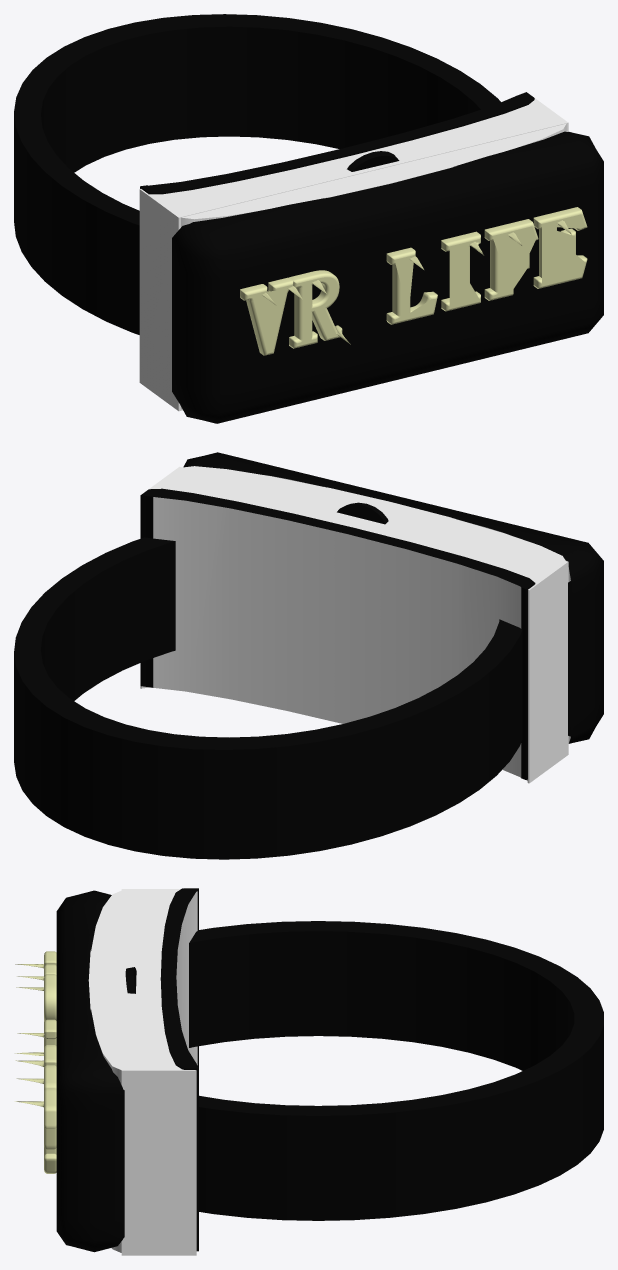
File: VR_LIVE.fbx
3 views of the same model, one above another, from view 1: azimuth 30°, elevation 25°; view 2: azimuth 150°, elevation 25°; view 3: azimuth 270°, elevation 25° (orthographic). The views are drawn at different scales.
Visible parts, largest first — view 1: pCube2, pPipe3, pasted__pCube2, polySurface1, group9_pasted__group4_pasted__pasted__pasted__pCube2, pPipe1; view 2: pPipe3, group9_pasted__group4_pasted__pasted__pasted__pCube2, pasted__pCube2, pCube2, pPipe1; view 3: pPipe3, pasted__pCube2, pCube2, group9_pasted__group4_pasted__pasted__pasted__pCube2, polySurface1.
Boxes of the visible parts, bbox=[...] form: pCube2: bbox=[172, 131, 603, 423]; pPipe3: bbox=[14, 14, 500, 334]; pasted__pCube2: bbox=[139, 98, 568, 411]; polySurface1: bbox=[240, 207, 587, 355]; group9_pasted__group4_pasted__pasted__pasted__pCube2: bbox=[140, 92, 534, 194]; pPipe1: bbox=[347, 151, 399, 171]; pPipe3: bbox=[14, 537, 522, 859]; group9_pasted__group4_pasted__pasted__pasted__pCube2: bbox=[140, 488, 535, 779]; pasted__pCube2: bbox=[140, 466, 568, 783]; pCube2: bbox=[183, 452, 603, 743]; pPipe1: bbox=[337, 502, 388, 524]; pPipe3: bbox=[189, 921, 603, 1220]; pasted__pCube2: bbox=[88, 889, 196, 1255]; pCube2: bbox=[56, 890, 124, 1252]; group9_pasted__group4_pasted__pasted__pasted__pCube2: bbox=[160, 888, 198, 1251]; polySurface1: bbox=[14, 951, 56, 1173].
Bounding box in the file's own units: 2.04 × 0.9612 × 2.61.
